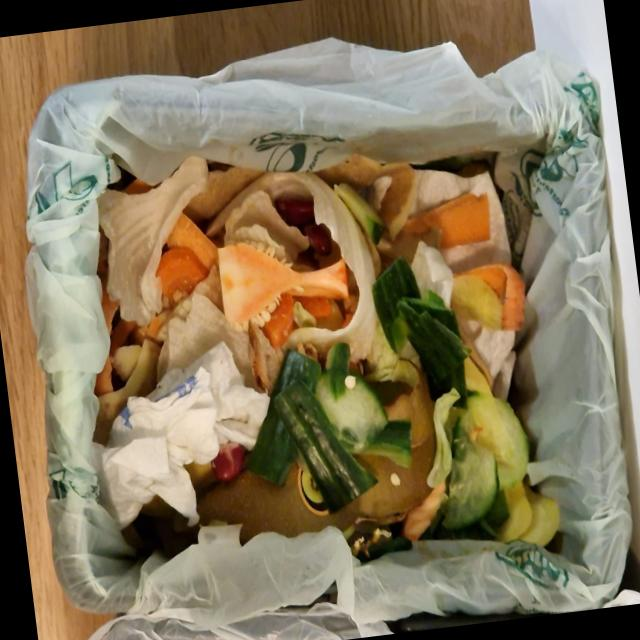organic waste: (82, 336, 286, 552)
